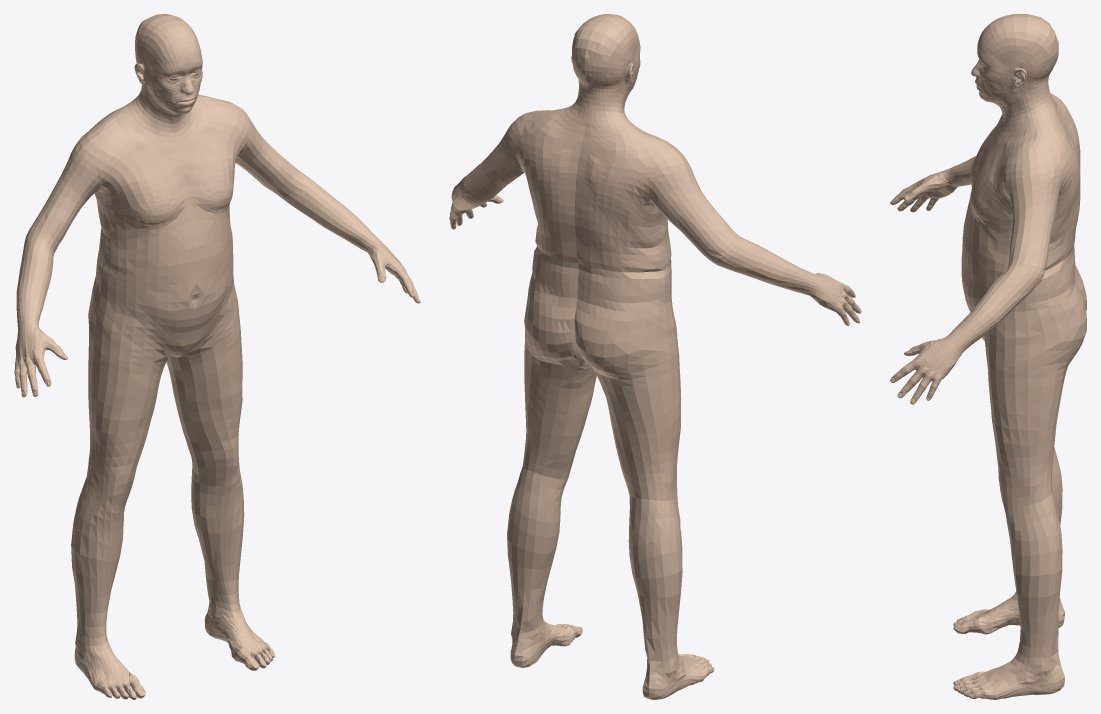
File: male-mature-heavy-low.glb
The picture shows the model from 3 angles, left to right: view 1: azimuth 30°, elevation 25°; view 2: azimuth 150°, elevation 25°; view 3: azimuth 270°, elevation 25°; orthographic projection.
Parts seen in each view (by area): view 1: world; view 2: world; view 3: world.
Boxes of the visible parts, box(x1,y1,x2,y2) form: world: box(14, 14, 420, 699); world: box(449, 14, 861, 699); world: box(890, 14, 1086, 699).
Bounding box in the file's own units: 1.25 × 1.94 × 0.5372.
